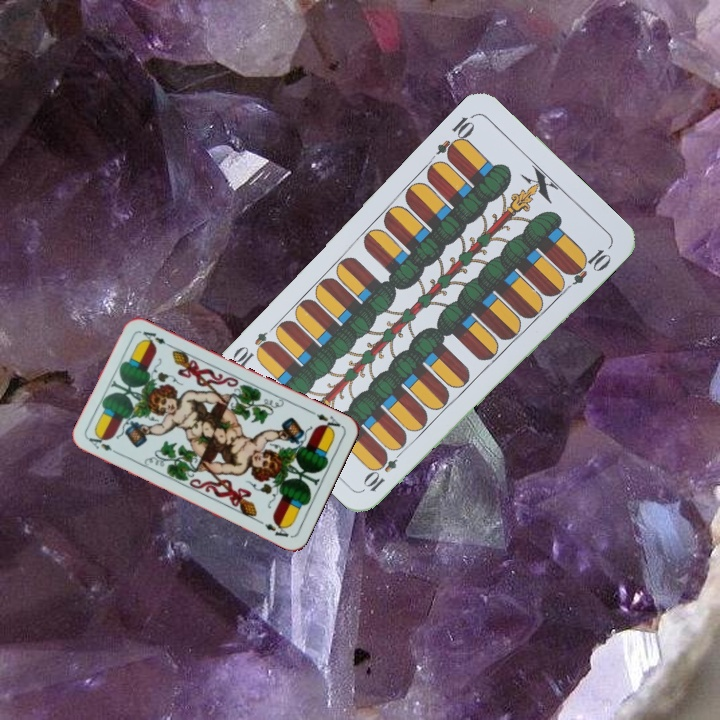E10: (432, 110, 478, 163), (360, 444, 407, 495)
EA: (306, 407, 345, 433), (84, 433, 122, 458)
